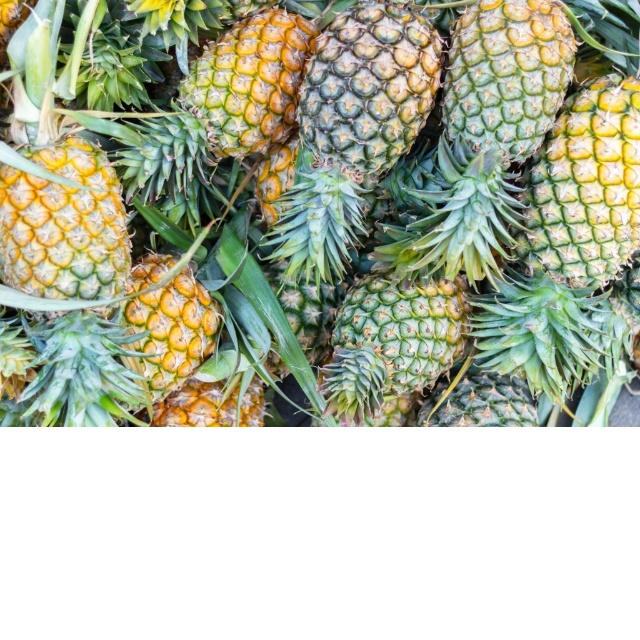thom: (1, 130, 142, 343), (290, 6, 442, 199), (520, 71, 640, 312), (438, 1, 576, 175)
